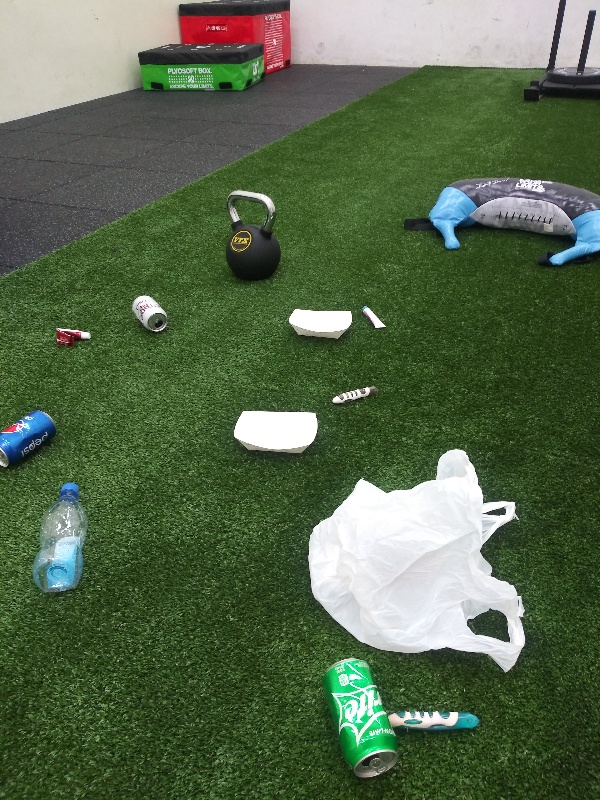bottle: (29, 472, 89, 601)
can: (321, 652, 406, 784), (1, 407, 67, 473), (128, 289, 173, 337)
plate: (231, 405, 324, 460), (286, 301, 354, 344)
